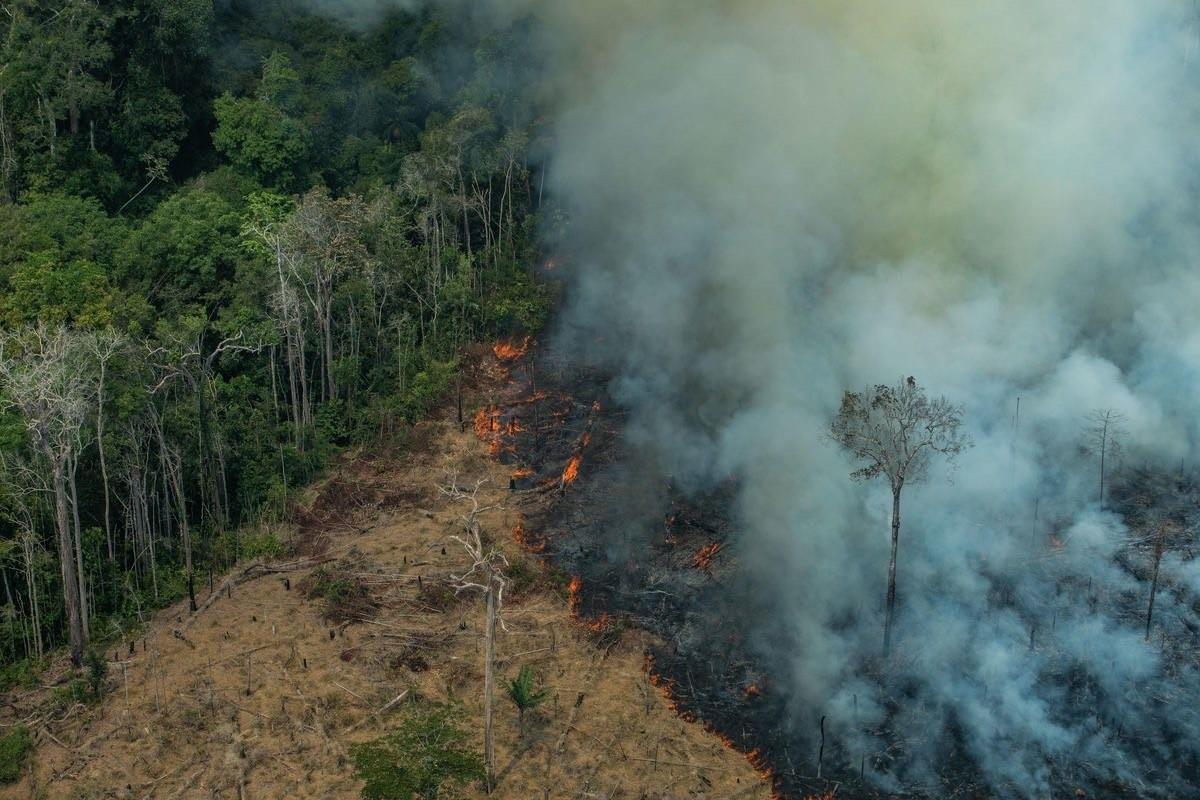fire: (704, 707, 835, 800), (628, 647, 680, 709), (468, 406, 526, 461), (558, 570, 605, 637), (543, 430, 587, 485), (677, 530, 720, 569), (484, 335, 533, 365), (736, 672, 755, 689)
smoke: (579, 8, 1031, 712)
